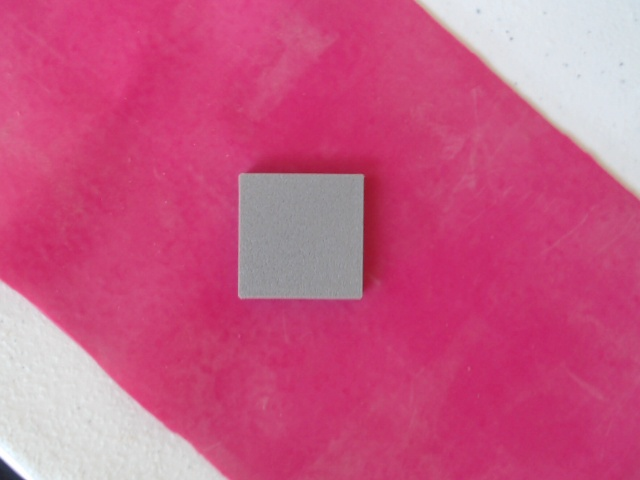Defective: (231, 166, 370, 303)
